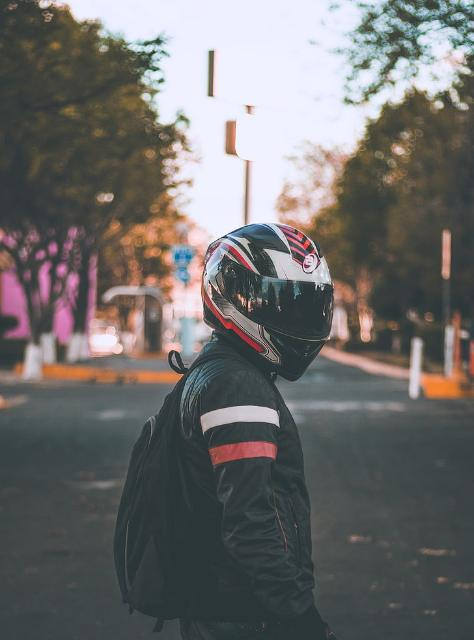helm: (204, 219, 340, 381)
